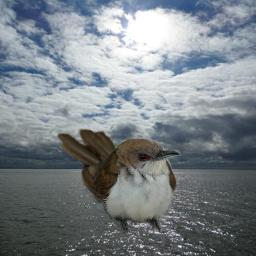Cuckoo: (57, 128, 181, 239)
